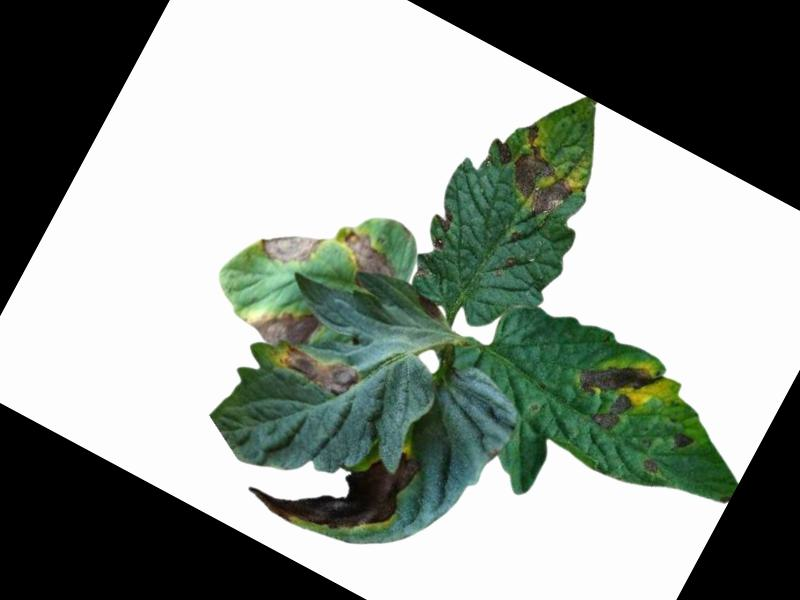Early_blight: (239, 394, 424, 565), (559, 341, 664, 444), (493, 122, 590, 225), (274, 335, 365, 405), (243, 289, 324, 364), (333, 225, 405, 289), (254, 213, 323, 277), (423, 206, 459, 252), (408, 293, 446, 325), (486, 134, 518, 168), (668, 429, 697, 456), (639, 456, 660, 475)
